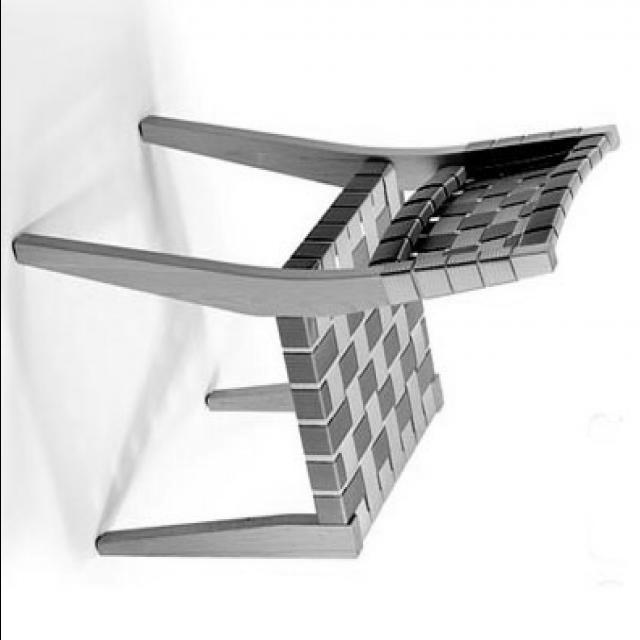chair: (16, 108, 620, 562)
